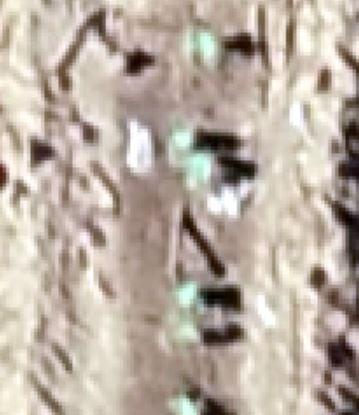cotton: (188, 154, 212, 183), (172, 283, 198, 306), (169, 124, 191, 151), (193, 32, 217, 55), (175, 319, 199, 342), (176, 393, 199, 415)
